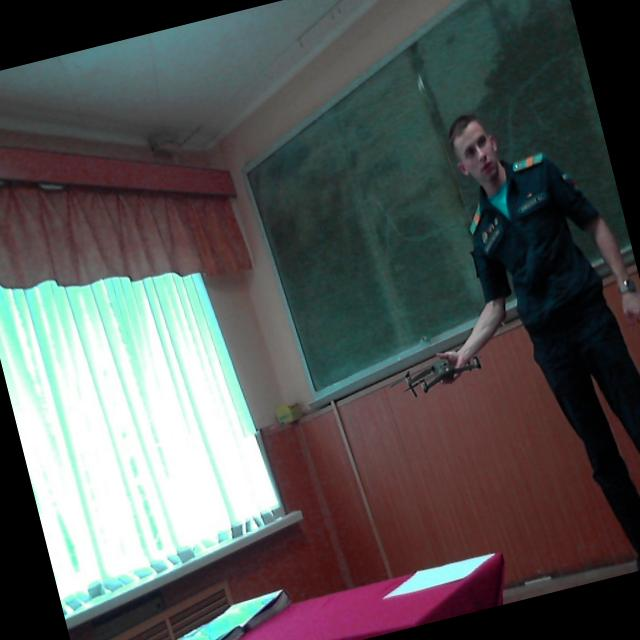drone: (375, 321, 507, 405)
